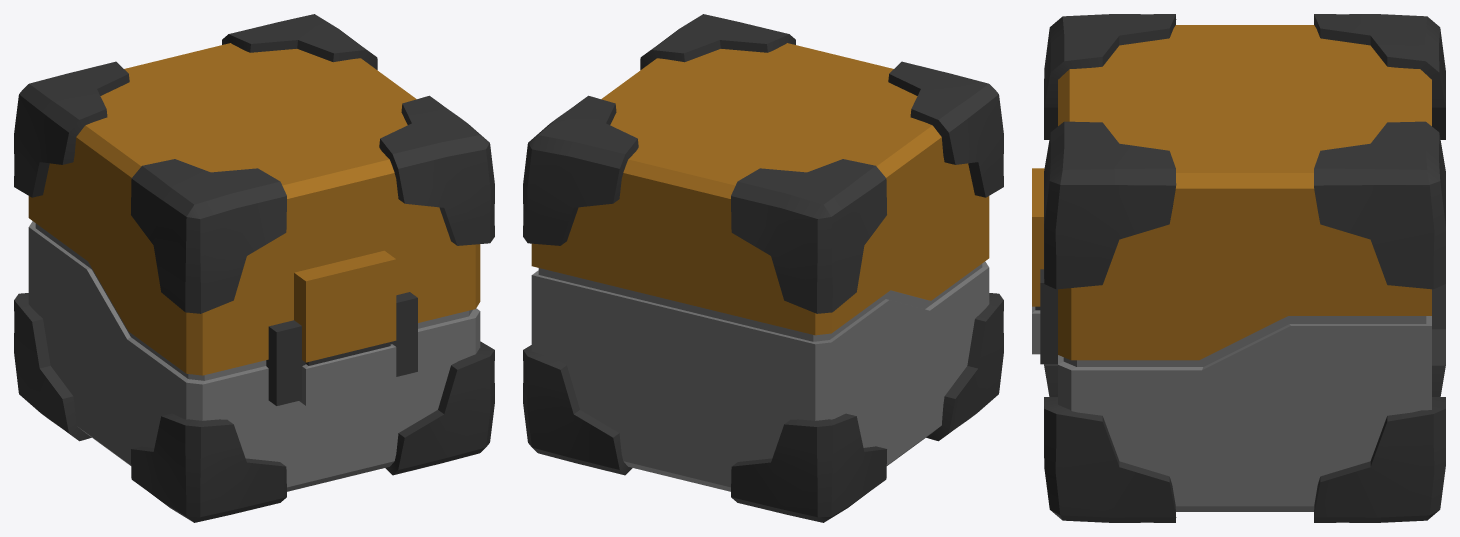
The model's file is pickup_crate.glb.
The picture shows the model from 3 angles, left to right: view 1: azimuth 30°, elevation 25°; view 2: azimuth 150°, elevation 25°; view 3: azimuth 270°, elevation 25°; orthographic projection. The views are drawn at different scales.
Parts seen in each view (by area): view 1: Pickup_Crate; view 2: Pickup_Crate; view 3: Pickup_Crate.
Boxes of the visible parts, x1,y1,x2,y2 form: Pickup_Crate: (14, 14, 494, 522); Pickup_Crate: (523, 14, 1003, 522); Pickup_Crate: (1032, 14, 1445, 522).
Size of the model in its own units: 0.8729 by 0.8576 by 0.899.
Materials: 1 (1 with a texture image).
